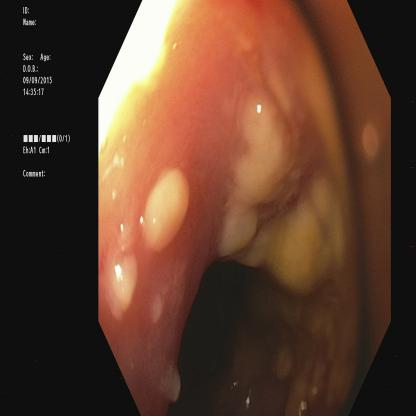Labels: (22, 2, 80, 180)
Polyps: (317, 87, 385, 200), (241, 75, 296, 202), (275, 204, 339, 304), (140, 178, 190, 259), (210, 188, 260, 258), (108, 260, 147, 327), (164, 350, 188, 411), (150, 282, 170, 339)
